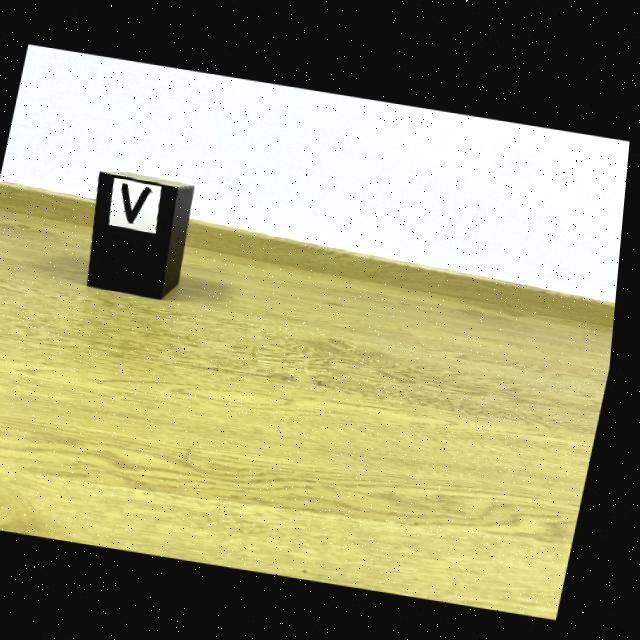V: (125, 182, 155, 221)
